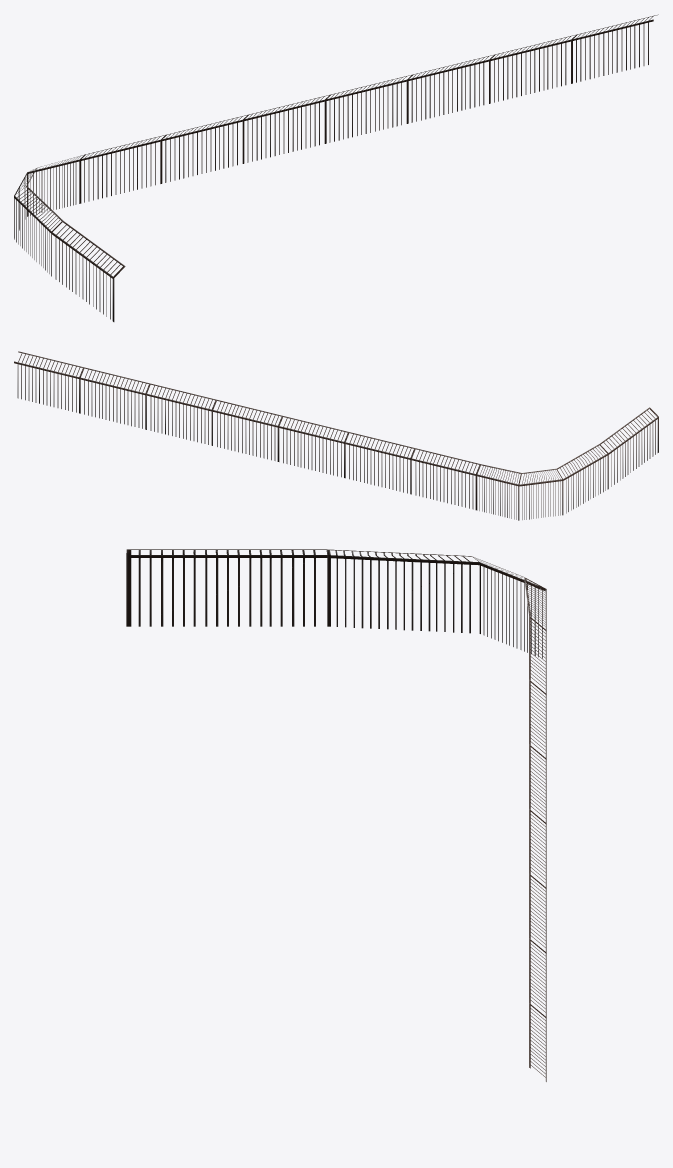
File: court_shibuya_fence_mesh.fbx
3 renders of one model, top to bottom at view 1: azimuth 30°, elevation 25°; view 2: azimuth 150°, elevation 25°; view 3: azimuth 270°, elevation 25°, orthographic. The views are drawn at different scales.
Visible parts, largest first — view 1: court_shibuya_fence_mesh; view 2: court_shibuya_fence_mesh; view 3: court_shibuya_fence_mesh.
Boxes of the visible parts, <box> form: court_shibuya_fence_mesh: <box>14,14,658,321</box>; court_shibuya_fence_mesh: <box>14,351,658,520</box>; court_shibuya_fence_mesh: <box>126,549,546,1081</box>.
Bounding box in the file's own units: 131 × 10.03 × 44.3.
